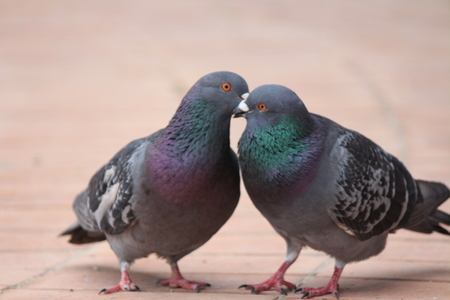pigeon: (49, 74, 262, 293)
